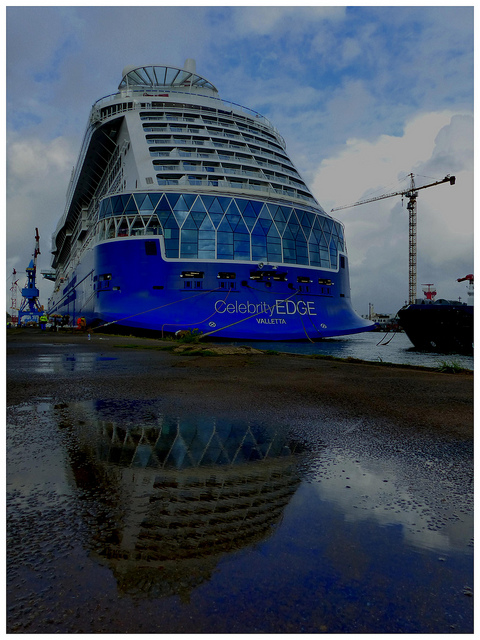cruise_ship: (48, 62, 376, 344)
